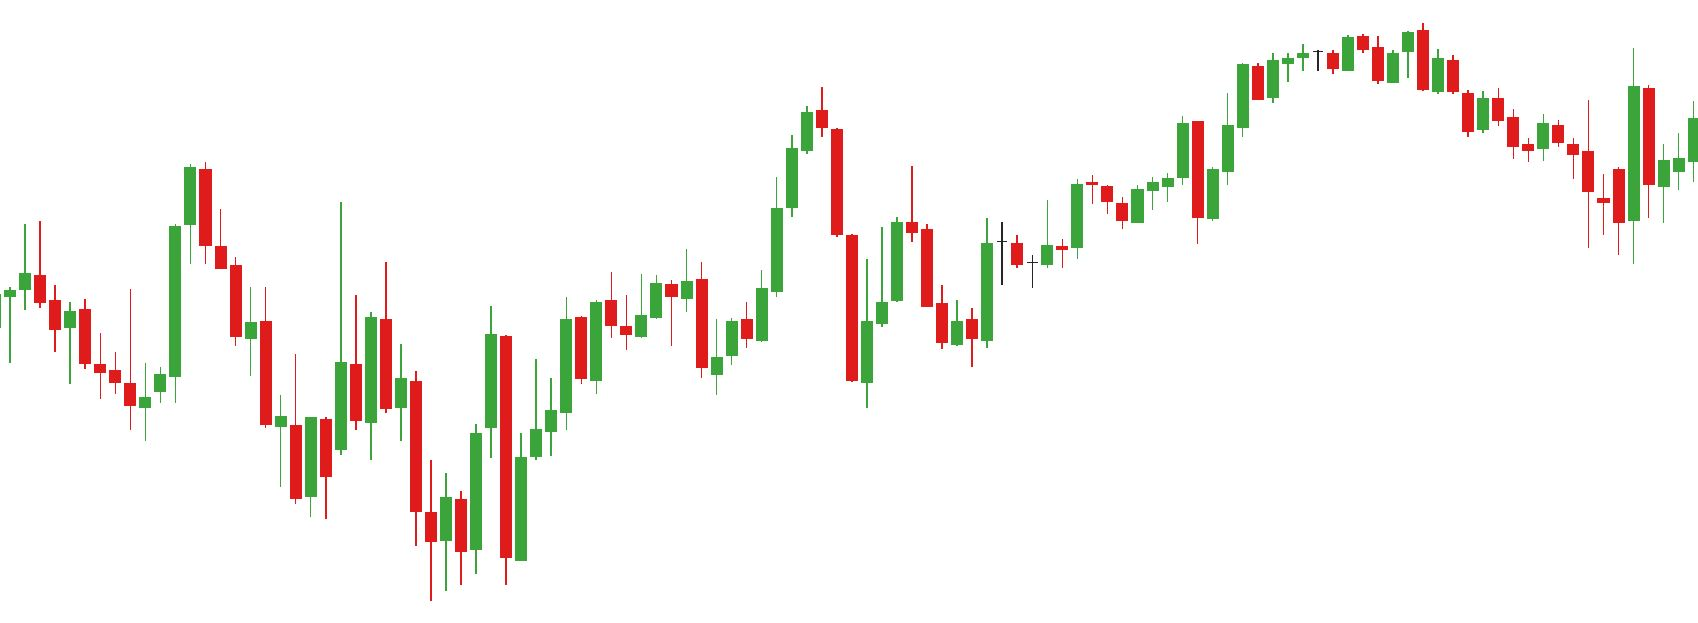buy: (317, 354, 454, 603), (710, 232, 878, 407), (1115, 150, 1222, 241)
sell: (17, 161, 215, 329)
